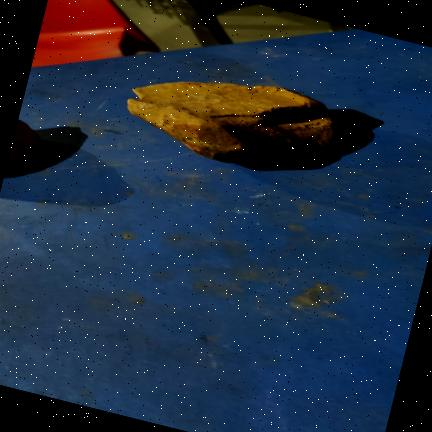Rocks: (128, 82, 335, 163), (6, 121, 40, 169)
